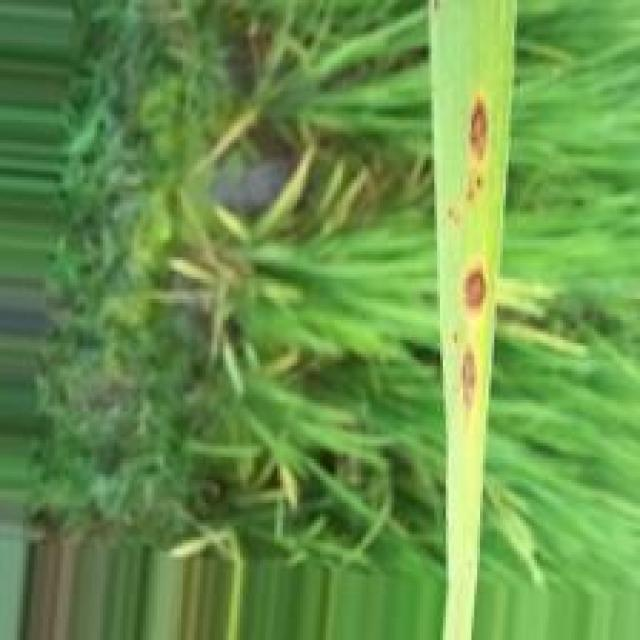Brown_Spot: (458, 348, 480, 408), (462, 266, 488, 316), (470, 94, 488, 161)
